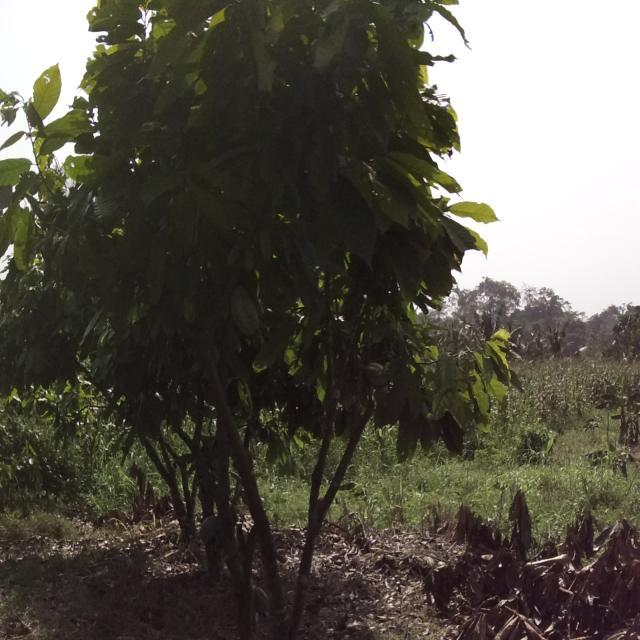Mature_Unripe: (234, 286, 263, 343), (363, 358, 391, 390), (199, 515, 221, 544), (251, 585, 273, 613)
